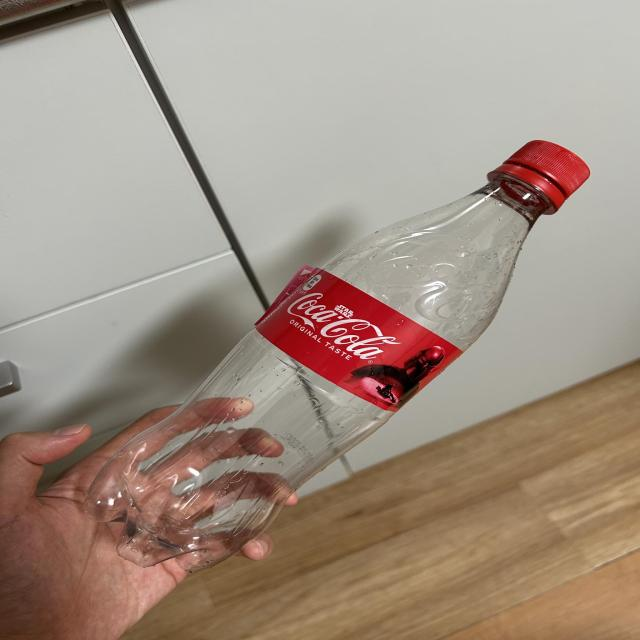empty: (85, 142, 588, 571)
